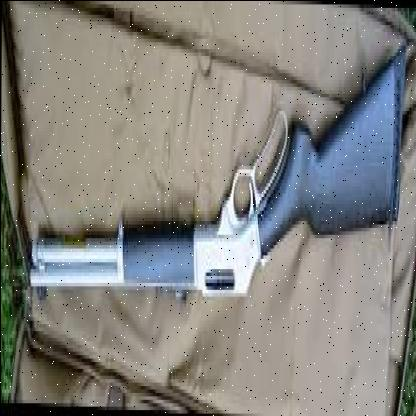rifle: (25, 27, 406, 324)
